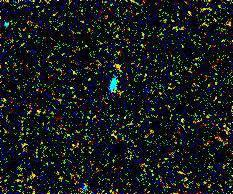star: (107, 50, 137, 80)
